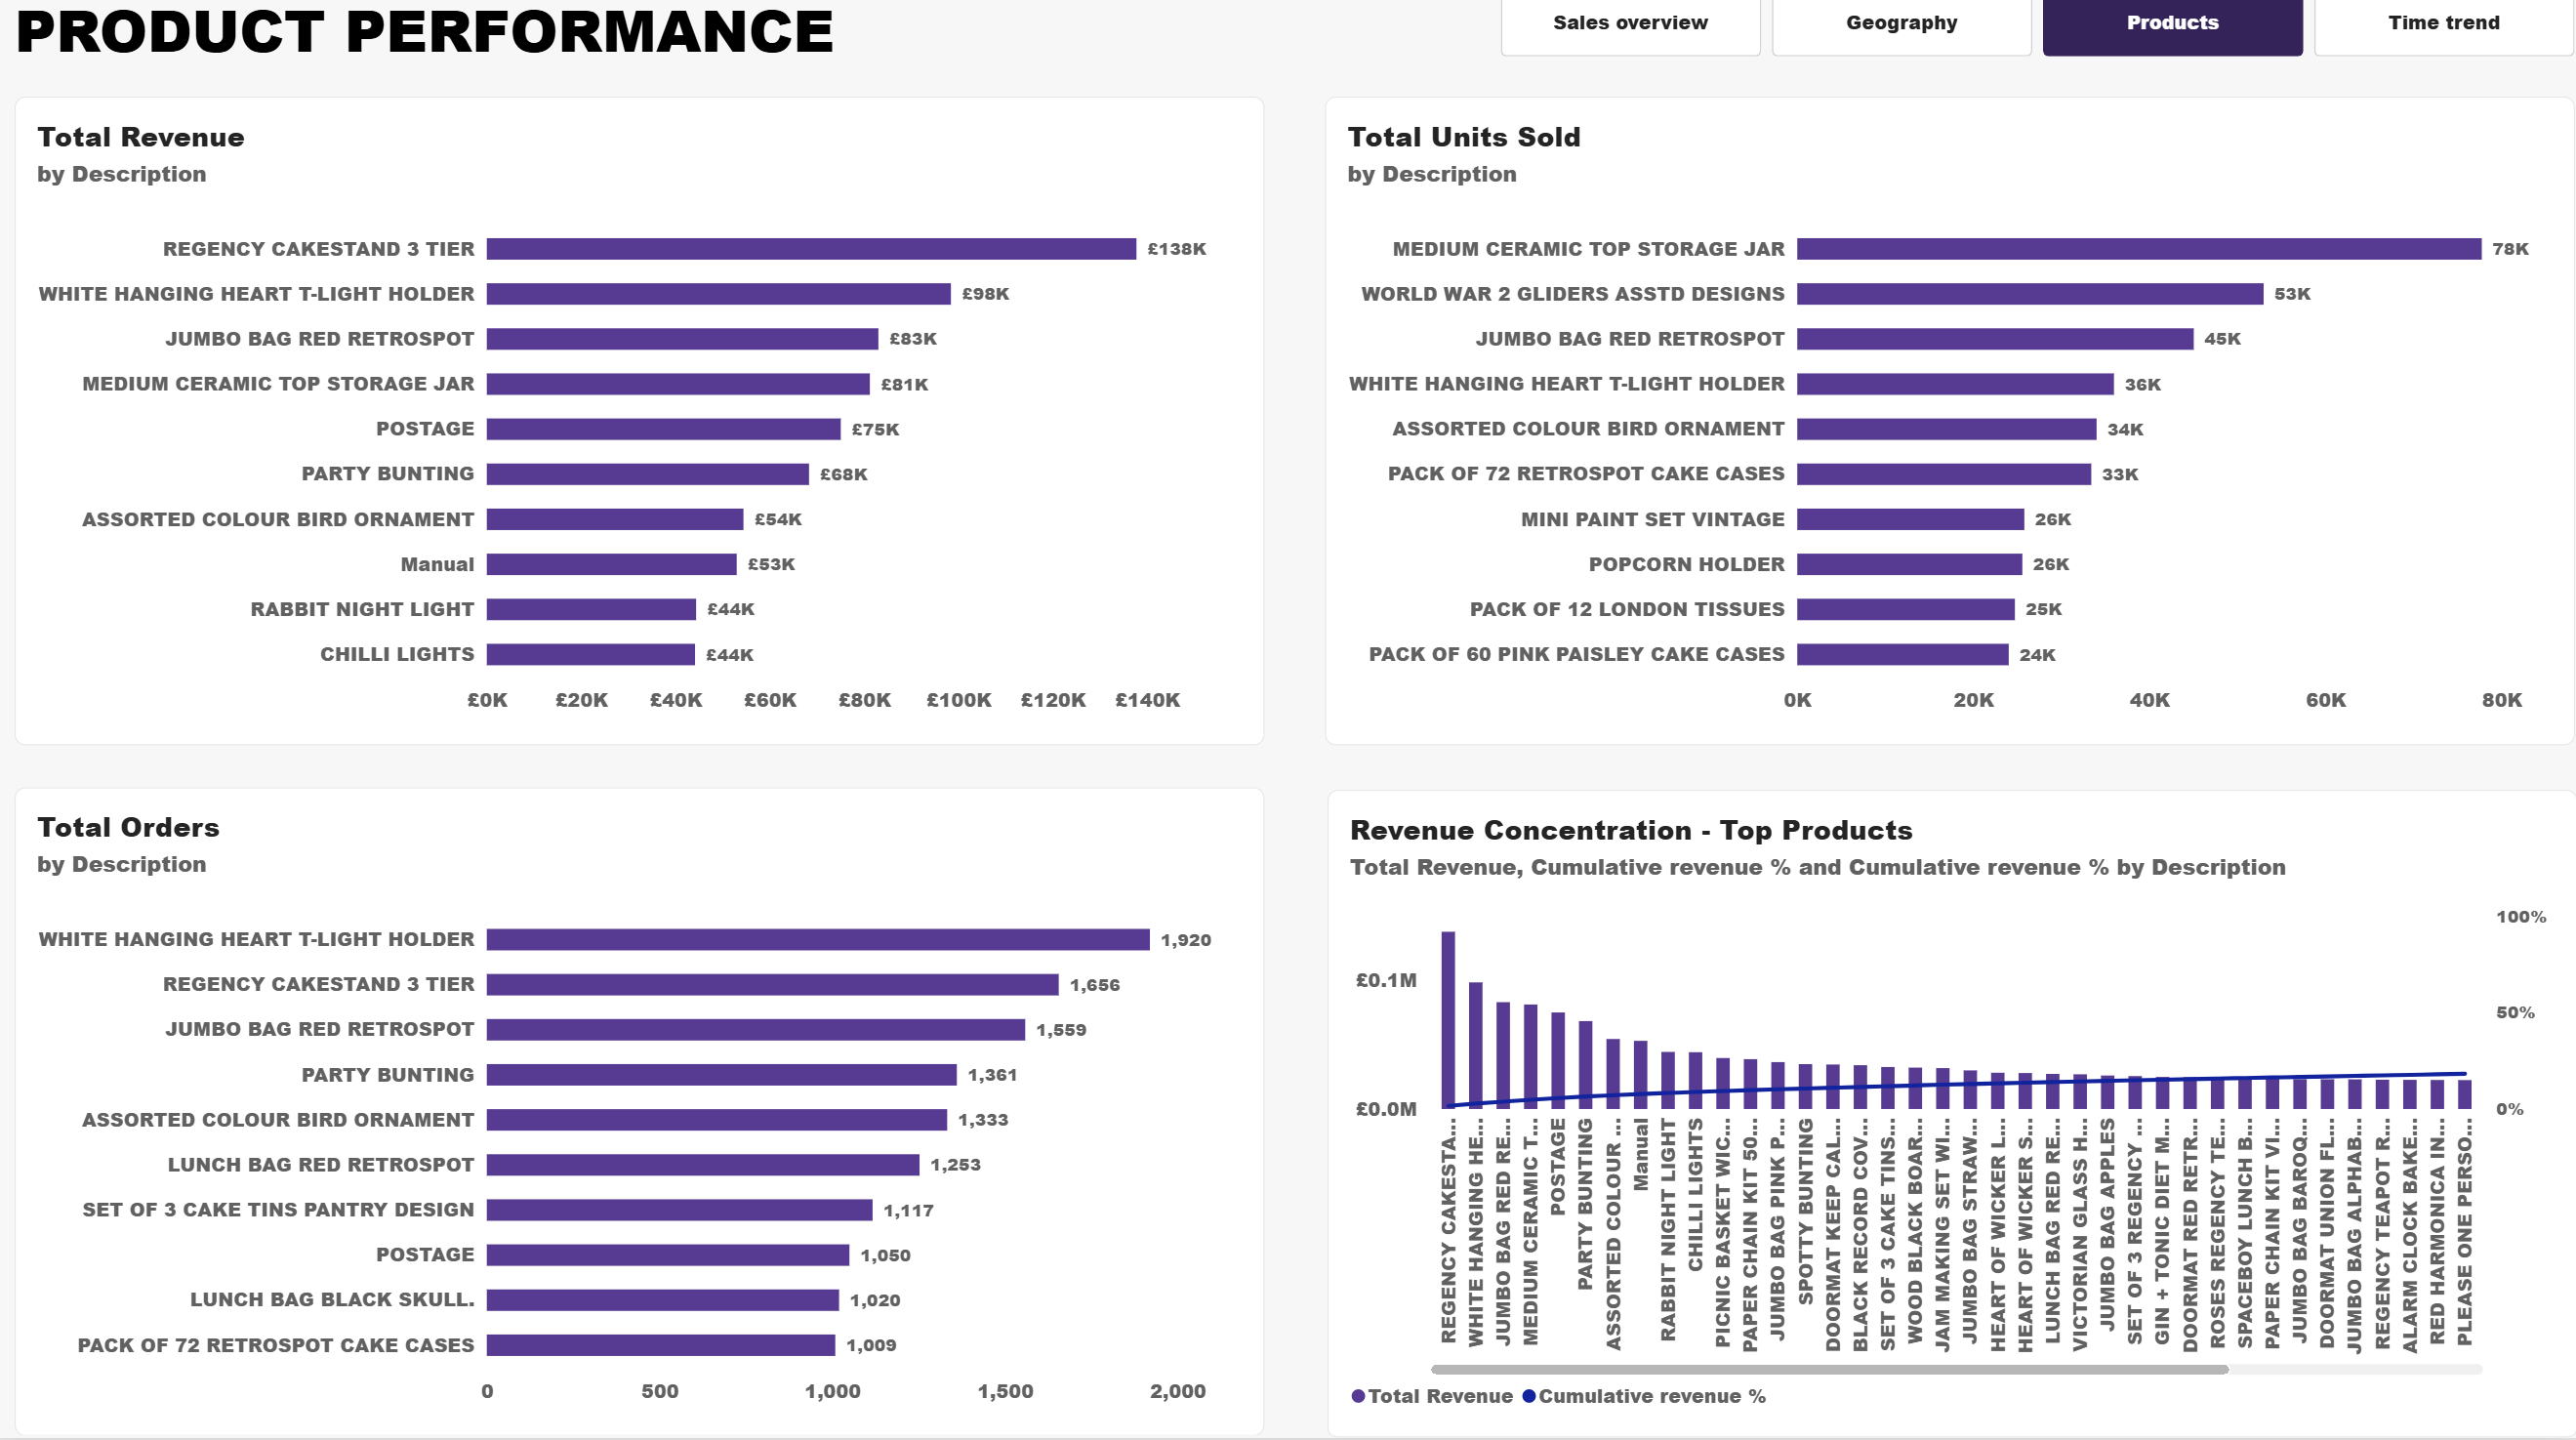

The page's visual inventory and layout, read from the dashboard file:
{"tool":"powerbi","page":{"name":"Products","canvas":[1920,1080],"ordinal":2},"visuals":[{"type":"textbox","box":[10.7,0,659.4,80.1],"z":0},{"type":"clusteredBarChart","fields":{"Category":["retail.Description"],"Y":["_measures.Total Revenue"]},"box":[10.7,80.1,931,483],"z":1000},{"type":"clusteredBarChart","fields":{"Category":["retail.Description"],"Y":["_measures.Total Units Sold"]},"box":[987.8,80.1,931,483],"z":2000},{"type":"clusteredBarChart","fields":{"Category":["retail.Description"],"Y":["_measures.Total Orders"]},"box":[10.7,595.3,931,483],"z":3000},{"type":"lineClusteredColumnComboChart","title":"Revenue Concentration - Top Products","fields":{"Category":["retail.Description"],"Y":["_measures.Total Revenue"],"Y2":["_measures.Cumulative revenue %"]},"box":[989.1,596.4,931,483],"z":4000},{"type":"pageNavigator","box":[1118.9,0,800,50],"z":5000}]}

Visuals, with their boxes in screenshot pixels (x1, y1, x2, y2), scaled from the page's 1920x1080 canvas onto the 2576x1440 screenshot:
textbox: (15,0,899,106)
clusteredBarChart - retail.Description x _measures.Total Revenue: (15,106,1263,751)
clusteredBarChart - retail.Description x _measures.Total Units Sold: (1326,106,2574,751)
clusteredBarChart - retail.Description x _measures.Total Orders: (15,794,1263,1438)
"Revenue Concentration - Top Products" lineClusteredColumnComboChart: (1327,796,2575,1439)
pageNavigator: (1501,0,2574,66)
